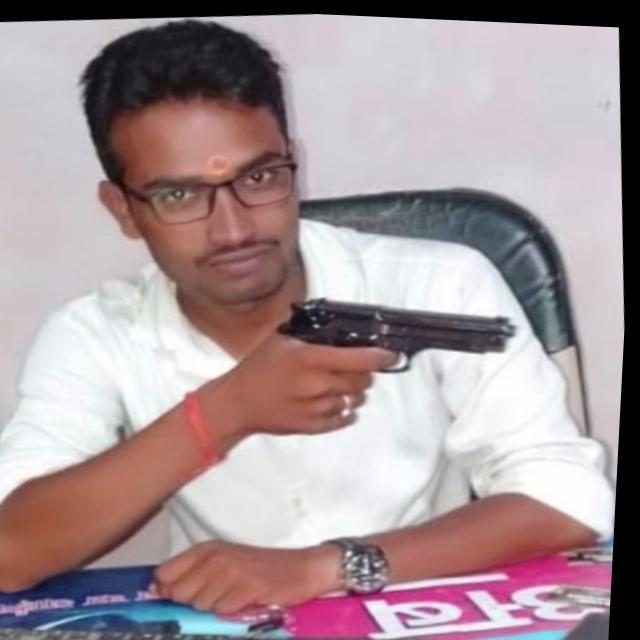weapon: (270, 276, 529, 429)
